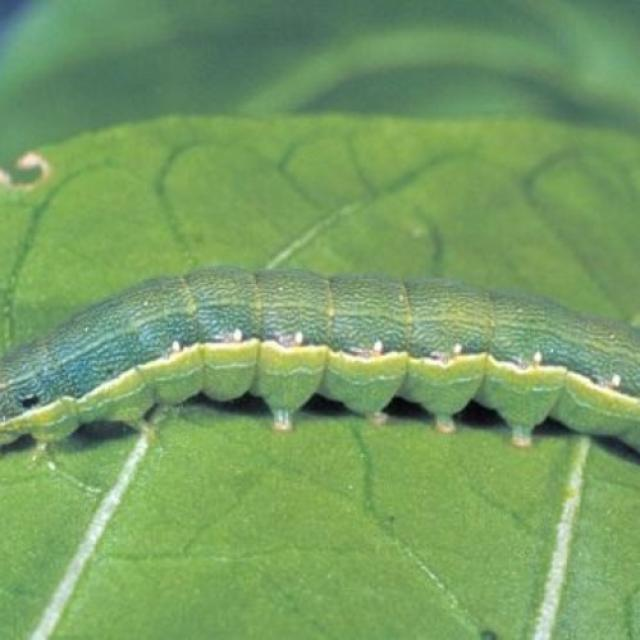armyworm: (0, 262, 639, 493)
